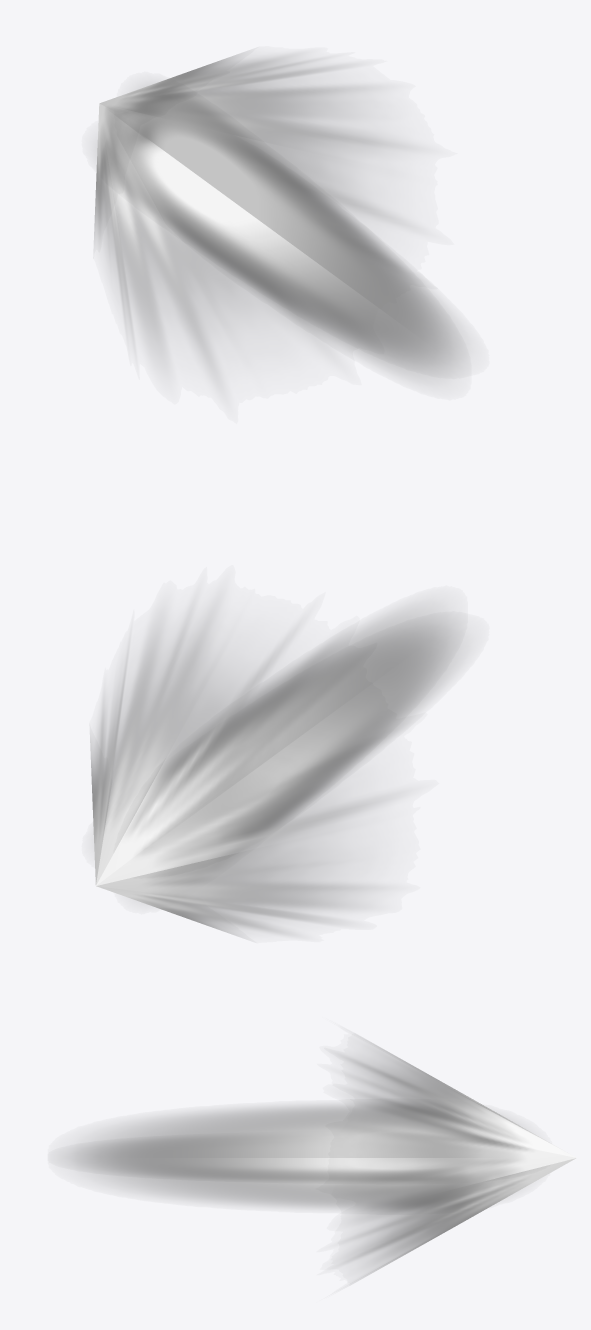
Rendered from si_eoa_5010.glb.
3 renders of one model, top to bottom at view 1: azimuth 30°, elevation 25°; view 2: azimuth 150°, elevation 25°; view 3: azimuth 270°, elevation 25°, orthographic. The views are drawn at different scales.
Visible parts, largest first — view 1: layer_01_si_est_0103, layer_00_si_est_0004; view 2: layer_00_si_est_0004, layer_01_si_est_0103; view 3: layer_01_si_est_0103, layer_00_si_est_0004.
Part boxes in pixels (x1,y1,x2,y2): layer_01_si_est_0103: (107, 91, 465, 377); layer_00_si_est_0004: (94, 54, 400, 372); layer_00_si_est_0004: (90, 615, 383, 935); layer_01_si_est_0103: (157, 609, 462, 871); layer_01_si_est_0103: (64, 1105, 507, 1208); layer_00_si_est_0004: (342, 1040, 576, 1277).
Bounding box in the file's own units: 6 × 6 × 10.05.
2 materials, 2 textured.
